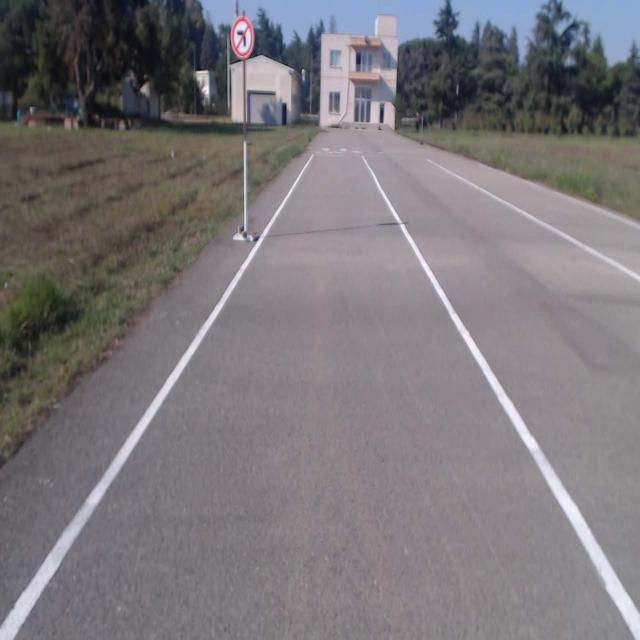soladonulmez: (232, 17, 254, 59)
